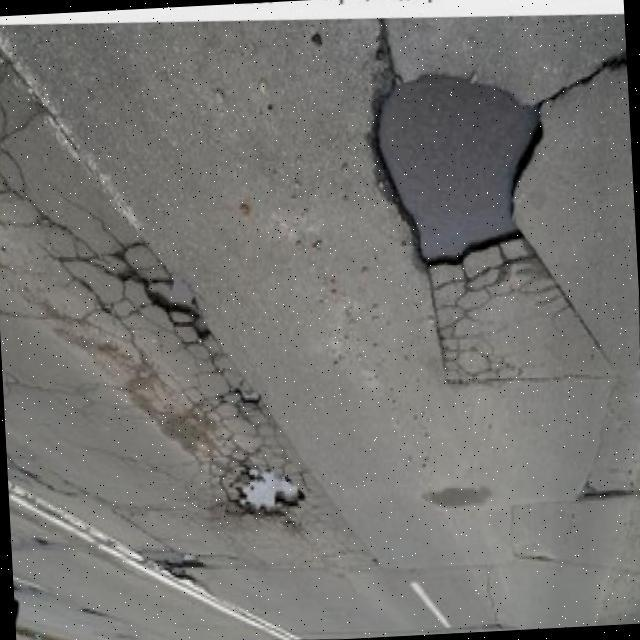Pothole: (368, 42, 544, 266), (245, 469, 295, 512)
